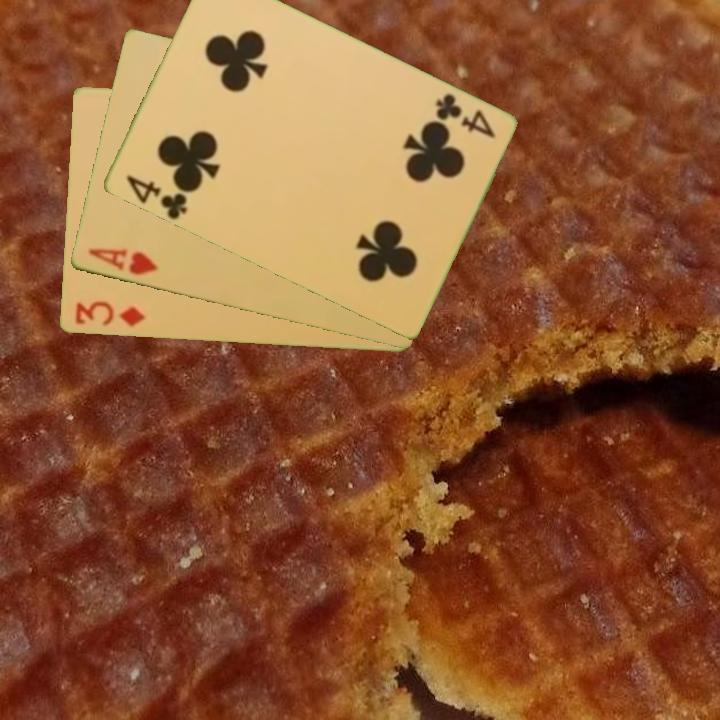3d: (71, 298, 148, 331)
4c: (431, 90, 498, 142), (121, 172, 190, 222)
Ah: (84, 245, 161, 279)
